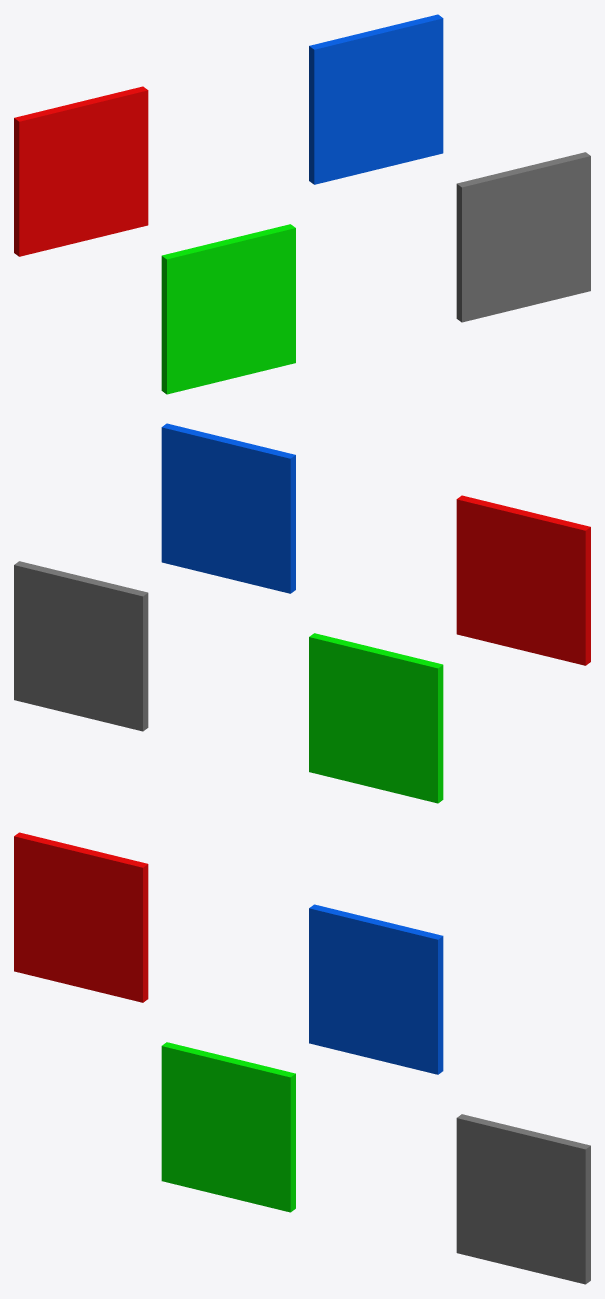
The model's file is three-color-fidelity.glb.
3 renders of one model, top to bottom at view 1: azimuth 30°, elevation 25°; view 2: azimuth 150°, elevation 25°; view 3: azimuth 330°, elevation 25°, orthographic.
Parts seen in each view (by area): view 1: color_red_panel, color_green_panel, color_blue_panel, color_gray_panel; view 2: color_red_panel, color_green_panel, color_blue_panel, color_gray_panel; view 3: color_green_panel, color_blue_panel, color_red_panel, color_gray_panel.
Part boxes in pixels (<box>): color_red_panel: <box>14,86,148,256</box>; color_green_panel: <box>161,224,295,394</box>; color_blue_panel: <box>309,14,443,184</box>; color_gray_panel: <box>456,152,590,322</box>; color_red_panel: <box>456,495,590,665</box>; color_green_panel: <box>309,633,443,803</box>; color_blue_panel: <box>161,423,295,593</box>; color_gray_panel: <box>14,561,148,731</box>; color_green_panel: <box>161,1042,295,1212</box>; color_blue_panel: <box>309,904,443,1074</box>; color_red_panel: <box>14,832,148,1002</box>; color_gray_panel: <box>456,1114,590,1284</box>.
Bounding box in the file's own units: 3.1 × 1.6 × 0.05.
